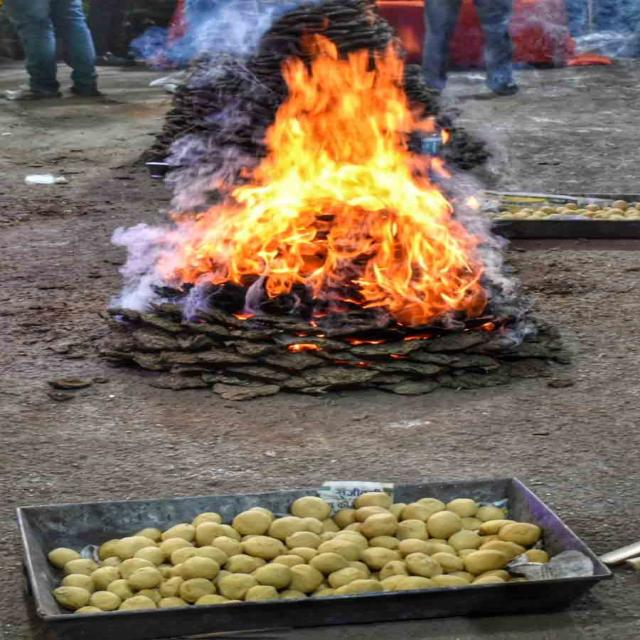fire: (147, 38, 492, 324)
